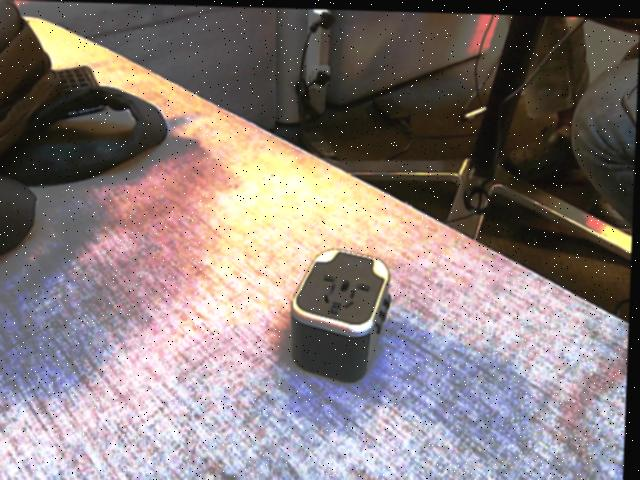adapter: (289, 245, 395, 381)
